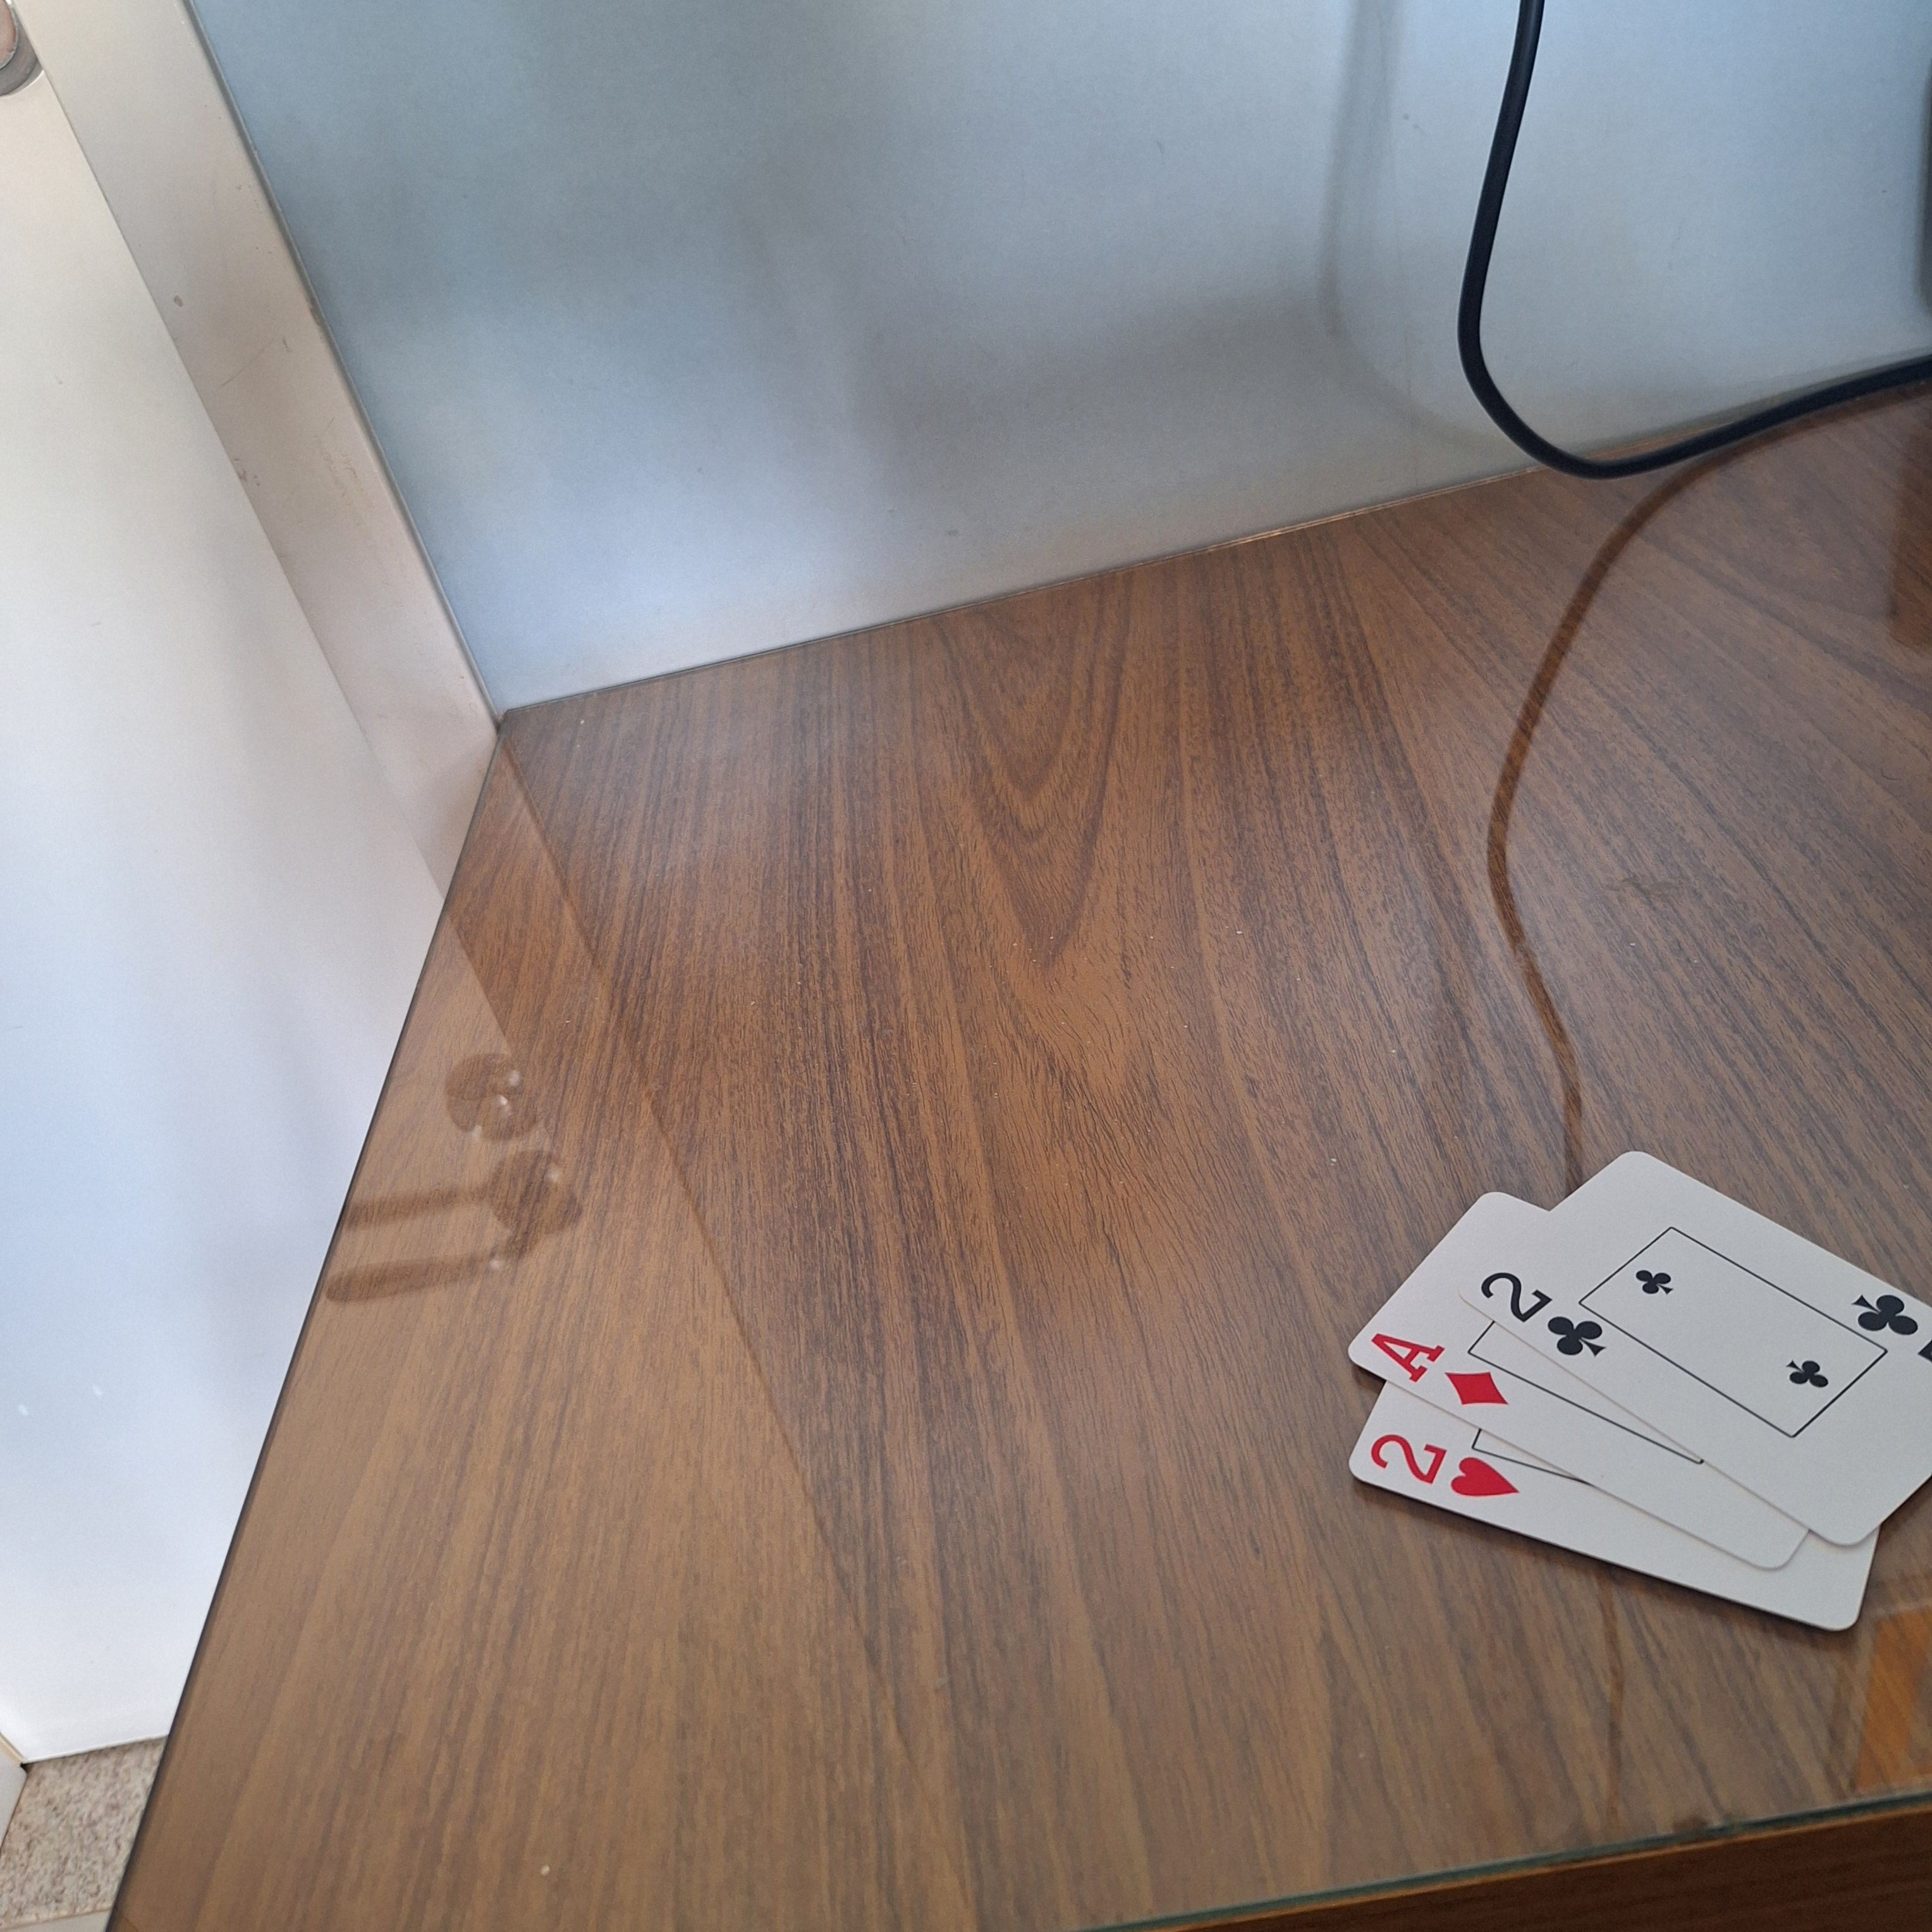2C: (1355, 1414, 1536, 1511)
2P: (1468, 1256, 1619, 1364)
AO: (1361, 1316, 1511, 1415)
